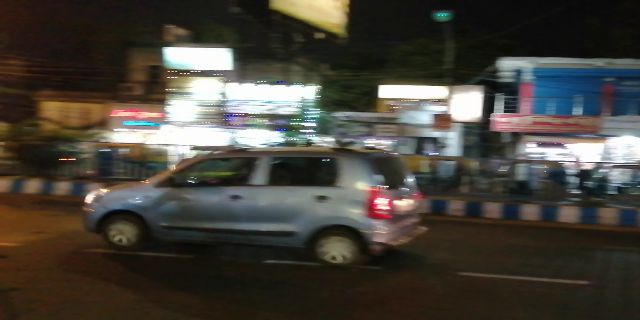Car: (73, 142, 428, 272)
